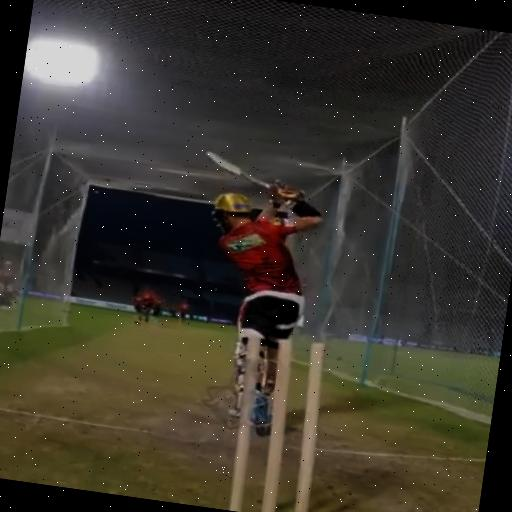Cricket bat: (207, 153, 270, 187)
